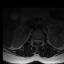CCS_normal: (36, 37, 38, 45)
LFS_normal: (40, 37, 42, 44)
LLS_normal: (38, 37, 40, 44)
RFS_normal: (32, 37, 34, 44)
RLS_normal: (34, 37, 36, 44)
